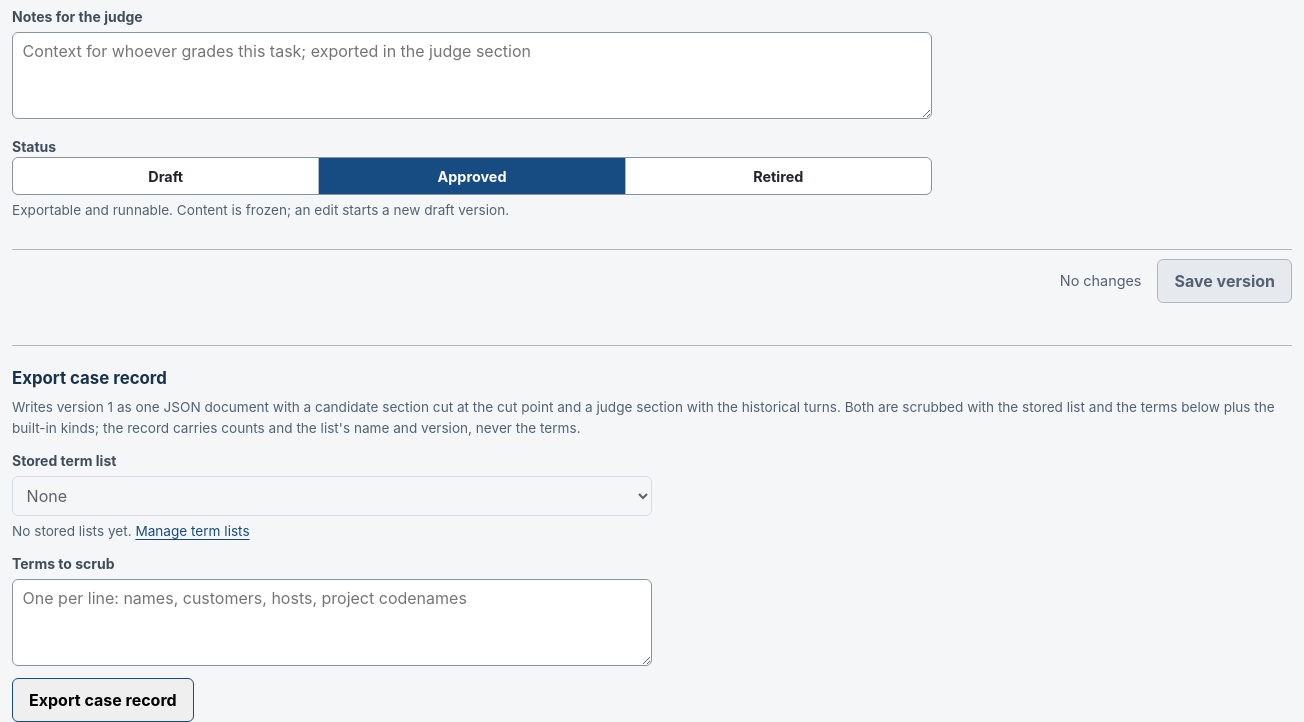
Test: task editor › offers export only for an approved version and shows the manifest
(page scrolled)
Expected: the text "No stored lists yet. Manage term lists" is shown, [12,523,250,539]
Expected: the dropdown labelled "Stored term list" is disabled, [12,476,652,516]
Type "Acme" into the text box labelled "Terms to scrub" at (332, 622), box [12,579,652,666]
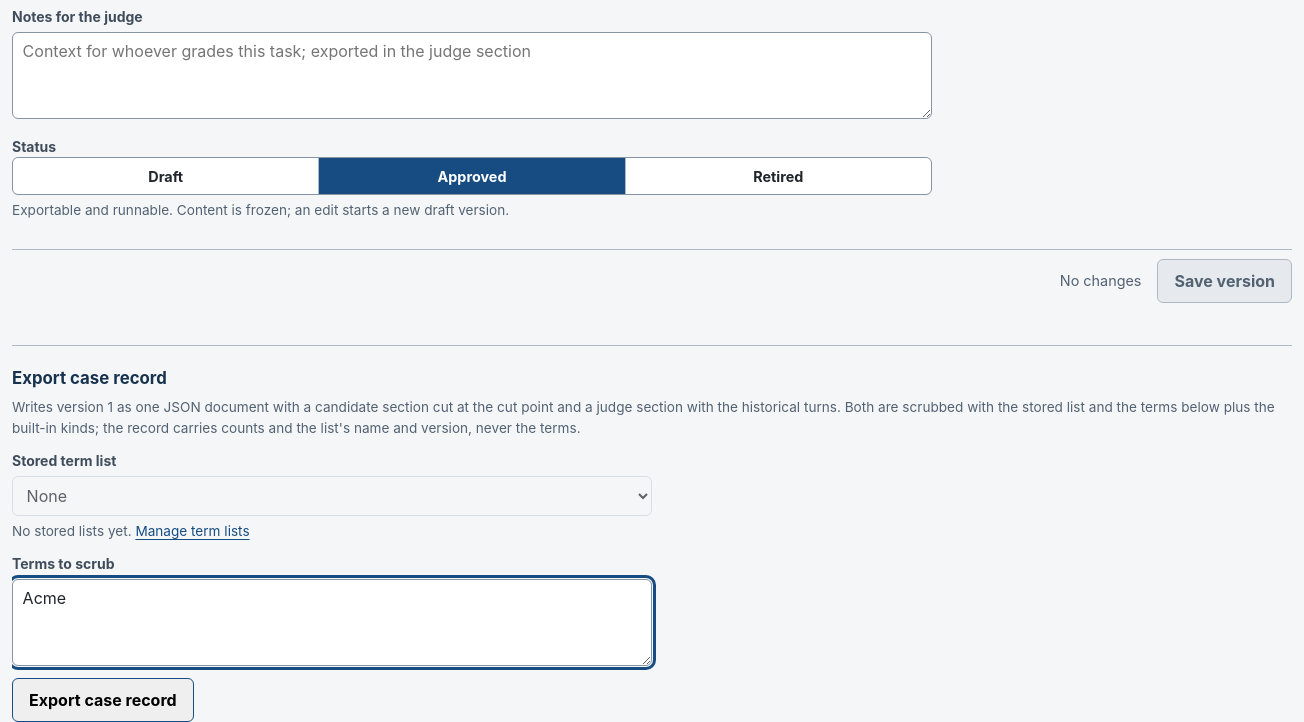
Click the button "Export case record" at (103, 700), box [12,678,194,721]
(page scrolled)
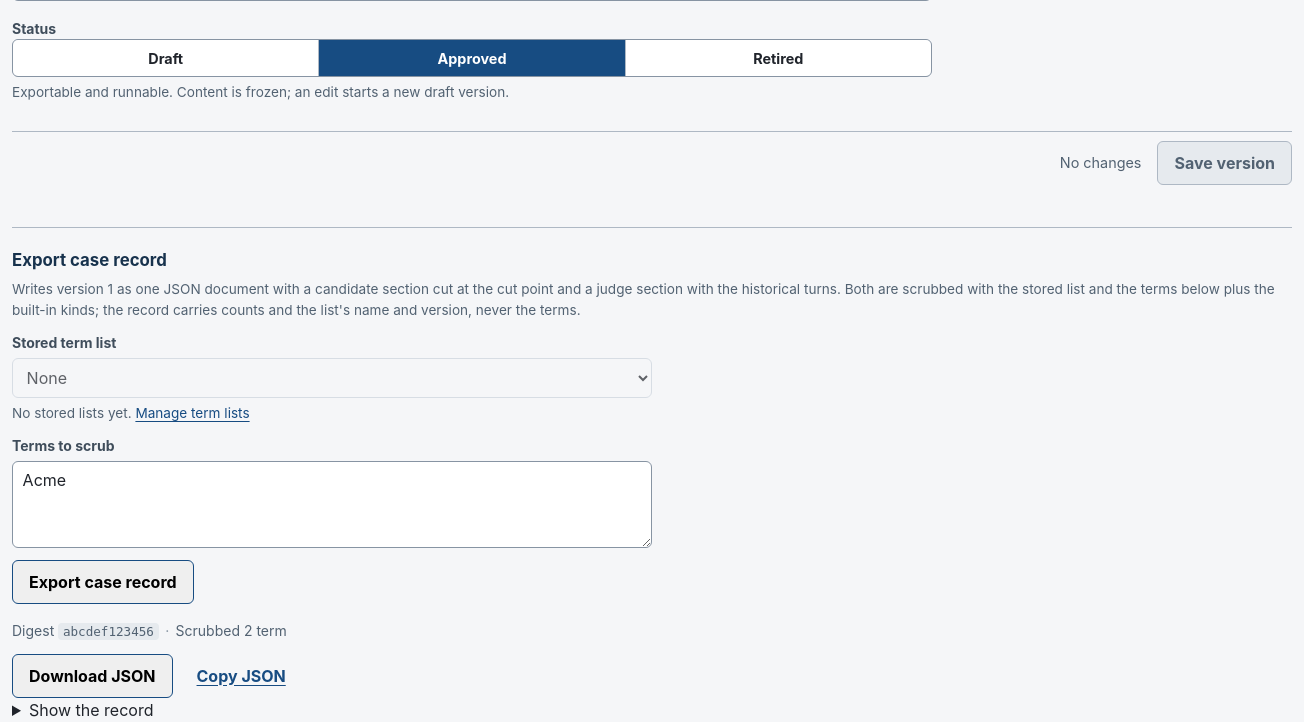
Expected: the text "Scrubbed 2 term" is shown, [176,620,287,642]
Expected: the button "Download JSON" is shown, [12,654,172,698]
